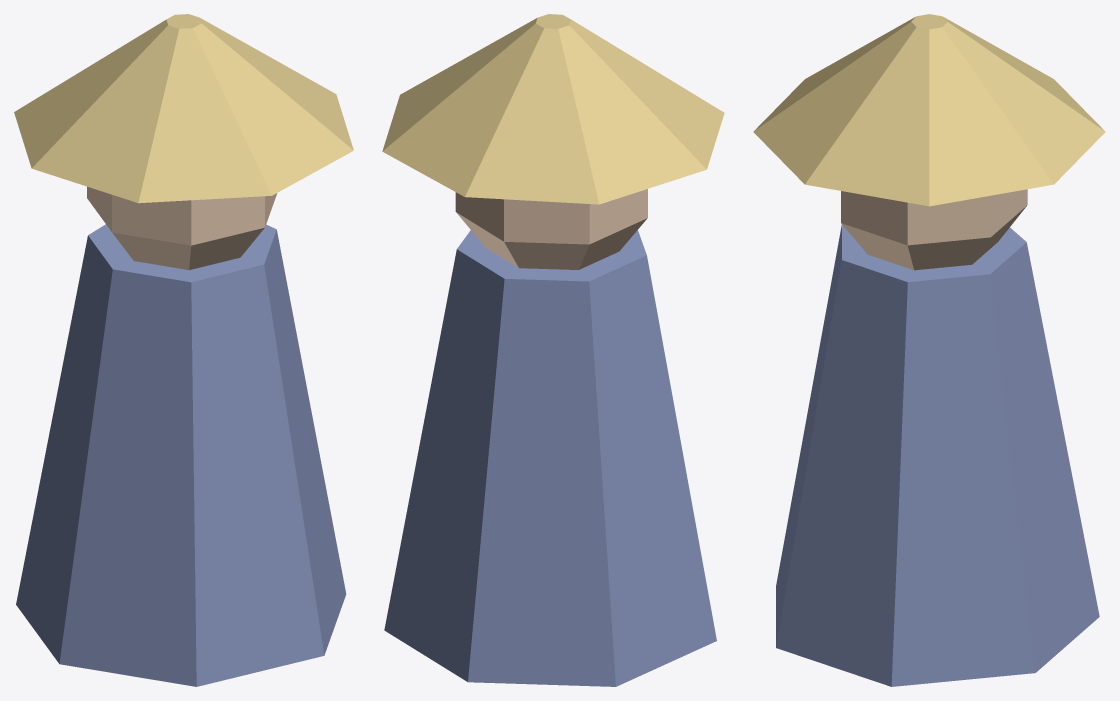
Rendered from villager.glb.
3 renders of one model, left to right at view 1: azimuth 30°, elevation 25°; view 2: azimuth 150°, elevation 25°; view 3: azimuth 270°, elevation 25°, orthographic.
Visible parts, largest first — view 1: body, hat, head; view 2: body, hat, head; view 3: body, hat, head.
Boxes of the visible parts, x1,y1,x2,y2 form: body: (16, 224, 346, 686); hat: (14, 14, 353, 203); head: (87, 186, 277, 269); body: (384, 230, 716, 686); hat: (382, 14, 724, 204); head: (455, 189, 647, 269); body: (776, 224, 1099, 686); hat: (753, 14, 1105, 206); head: (841, 189, 1027, 270).
Bounding box in the file's own units: 0.029 × 0.054 × 0.029.
